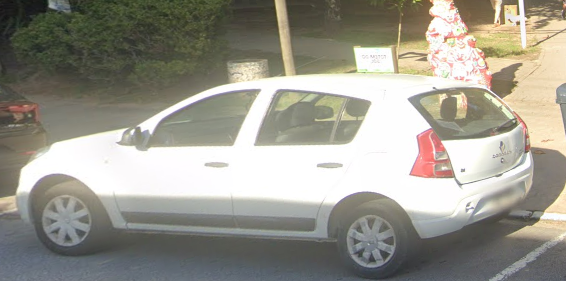car: (13, 72, 535, 279)
